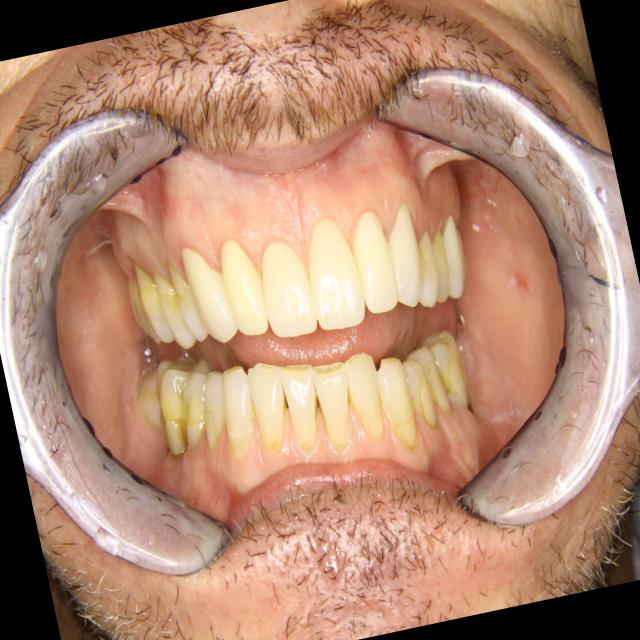tooth: (291, 210, 376, 346), (169, 225, 249, 362), (248, 227, 332, 357), (202, 230, 281, 356), (340, 201, 408, 323), (375, 190, 436, 322), (240, 351, 303, 468), (272, 351, 334, 468), (144, 353, 205, 470), (304, 350, 369, 459), (212, 359, 272, 470), (417, 323, 480, 427), (371, 347, 427, 459), (125, 246, 181, 355), (160, 244, 214, 351), (341, 349, 396, 450), (146, 260, 200, 360), (167, 364, 223, 460), (189, 362, 241, 461), (407, 339, 461, 431), (397, 350, 447, 440), (434, 205, 477, 304), (406, 218, 447, 309), (124, 364, 171, 443), (425, 222, 460, 310), (120, 266, 154, 343)
